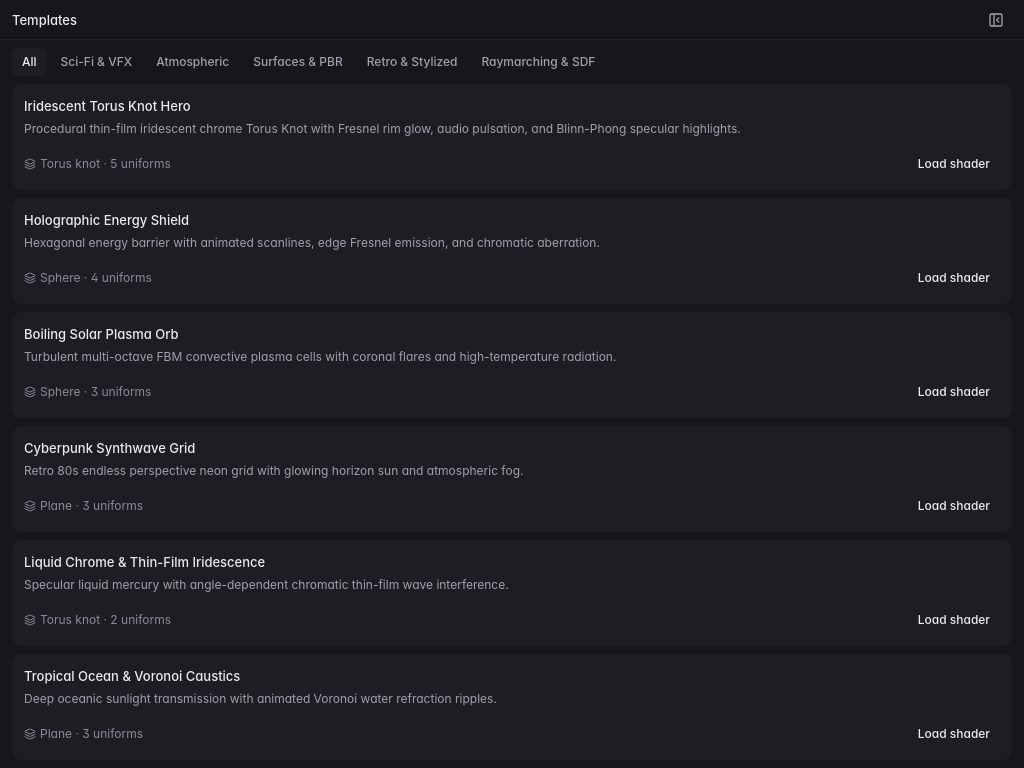
Test: shell: single surfaces › the templates sidebar lists every category, including Raymarching & SDF, and filters by it
Expected: the element named "Template category" shows "All", [12, 48, 47, 76]
Expected: the element named "Template category" shows "Sci-Fi & VFX", [51, 48, 142, 76]
Click the button "Raymarching & SDF" at (538, 62), box [471, 48, 605, 76]
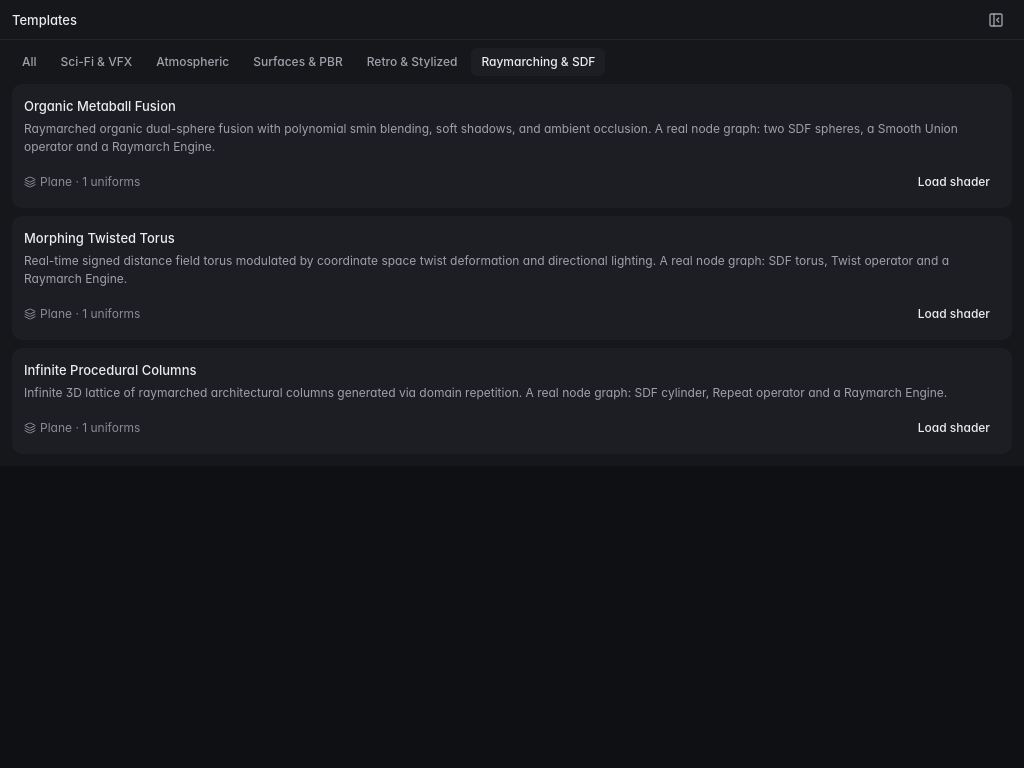
Expected: the number of list items is 3, [12, 84, 1012, 208]; [12, 216, 1012, 340]; [12, 348, 1012, 454]
